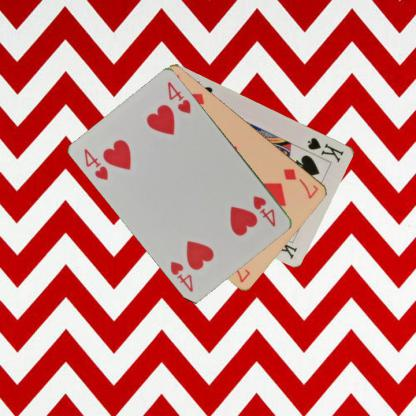4h: (81, 146, 110, 182), (250, 193, 278, 228)
7d: (281, 166, 320, 200)
Ks: (304, 135, 346, 164)
